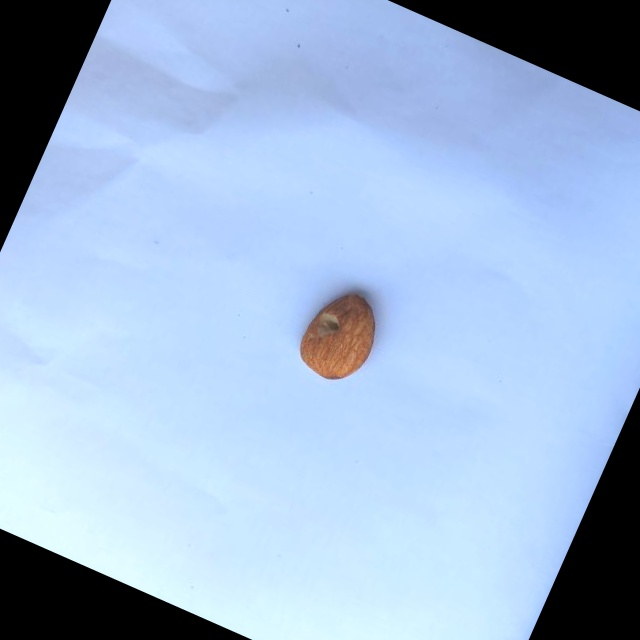grade3: (285, 275, 393, 395)
